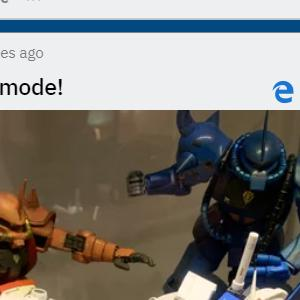edge: (272, 80, 294, 103)
